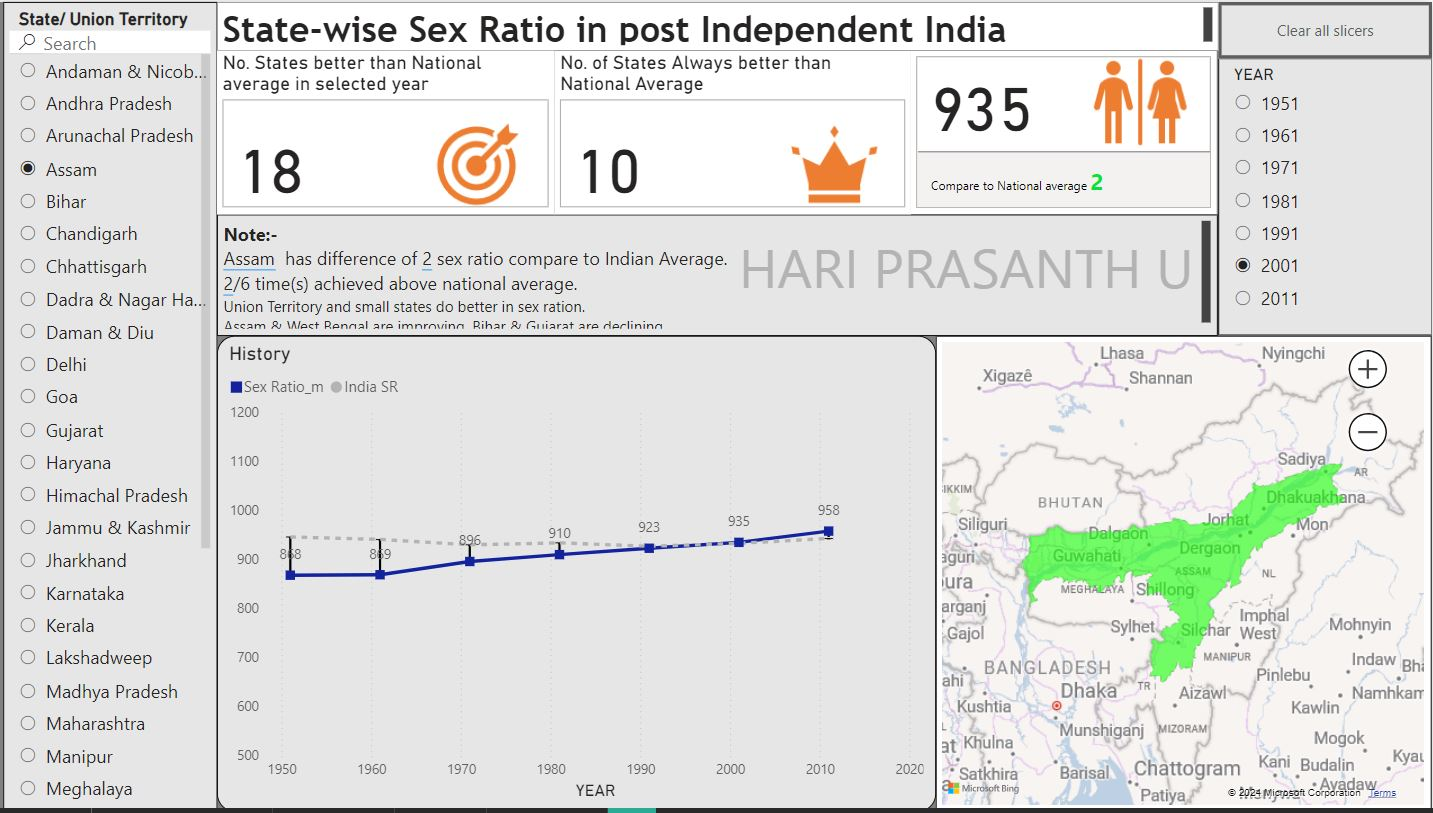

The page's visual inventory and layout, read from the dashboard file:
{"tool":"powerbi","page":{"name":"State wise sex ratio","canvas":[1280,720],"ordinal":0},"visuals":[{"type":"slicer","fields":{"Values":["State-wise Sex Ratio.State/ Union Territory"]},"box":[9.8,0,190.2,720.2],"z":0},{"type":"slicer","fields":{"Values":["State-wise Sex Ratio.YEAR"]},"box":[1089.6,50.3,190.2,246.6],"z":1000},{"type":"actionButton","box":[1089.6,0,190.2,50.3],"z":2000},{"type":"cardVisual","fields":{"Data":["State-wise Sex Ratio.Sex Ratio_m"]},"box":[817.1,43.6,272.4,145.3],"z":3000},{"type":"filledMap","fields":{"Category":["State-wise Sex Ratio.State/ Union Territory"]},"box":[839.3,296.9,440.5,423.3],"z":4000},{"type":"lineChart","title":"History ","fields":{"Category":["State-wise Sex Ratio.YEAR"],"Y":["State-wise Sex Ratio.Sex Ratio_m","State-wise Sex Ratio.India SR"]},"box":[200,296.9,639.3,423.3],"z":5000},{"type":"textbox","box":[199.7,188.8,889.7,107.7],"z":6000},{"type":"cardVisual","title":"No. of States Always better than National Average","fields":{"Data":["State-wise Sex Ratio.States always above National Avg"]},"box":[499.9,43.6,317.2,145.3],"z":6001},{"type":"textbox","box":[199.7,0,889.7,43.6],"z":6002},{"type":"cardVisual","title":"No. States better than National average in selected year","fields":{"Data":["State-wise Sex Ratio.States above National Avg"]},"box":[199.7,43.6,300.2,145.3],"z":6003},{"type":"textbox","box":[658.9,197.8,420,88.9],"z":6004}]}

Visuals, with their boxes in screenshot pixels (x1, y1, x2, y2), scaled from the page's 1280x720 canvas onto the 1433x813 screenshot:
slicer - State-wise Sex Ratio.State/ Union Territory: 11 0 224 812
slicer - State-wise Sex Ratio.YEAR: 1220 57 1432 335
actionButton: 1220 0 1432 57
cardVisual - State-wise Sex Ratio.Sex Ratio_m: 915 49 1220 213
filledMap - State-wise Sex Ratio.State/ Union Territory: 940 335 1432 812
"History " lineChart: 224 335 940 812
textbox: 224 213 1220 335
"No. of States Always better than National Average" cardVisual: 560 49 915 213
textbox: 224 0 1220 49
"No. States better than National average in selected year" cardVisual: 224 49 560 213
textbox: 738 223 1208 324
